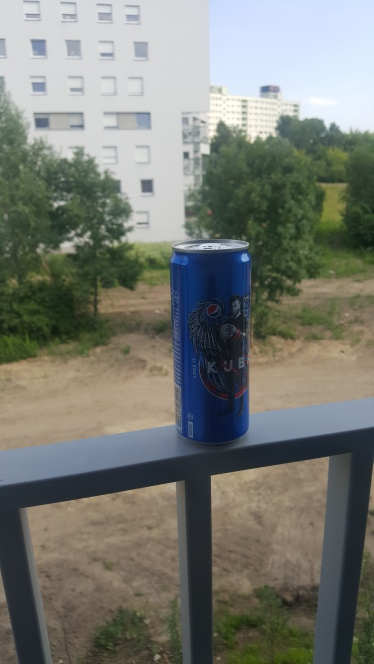pepsi: (165, 229, 260, 456)
